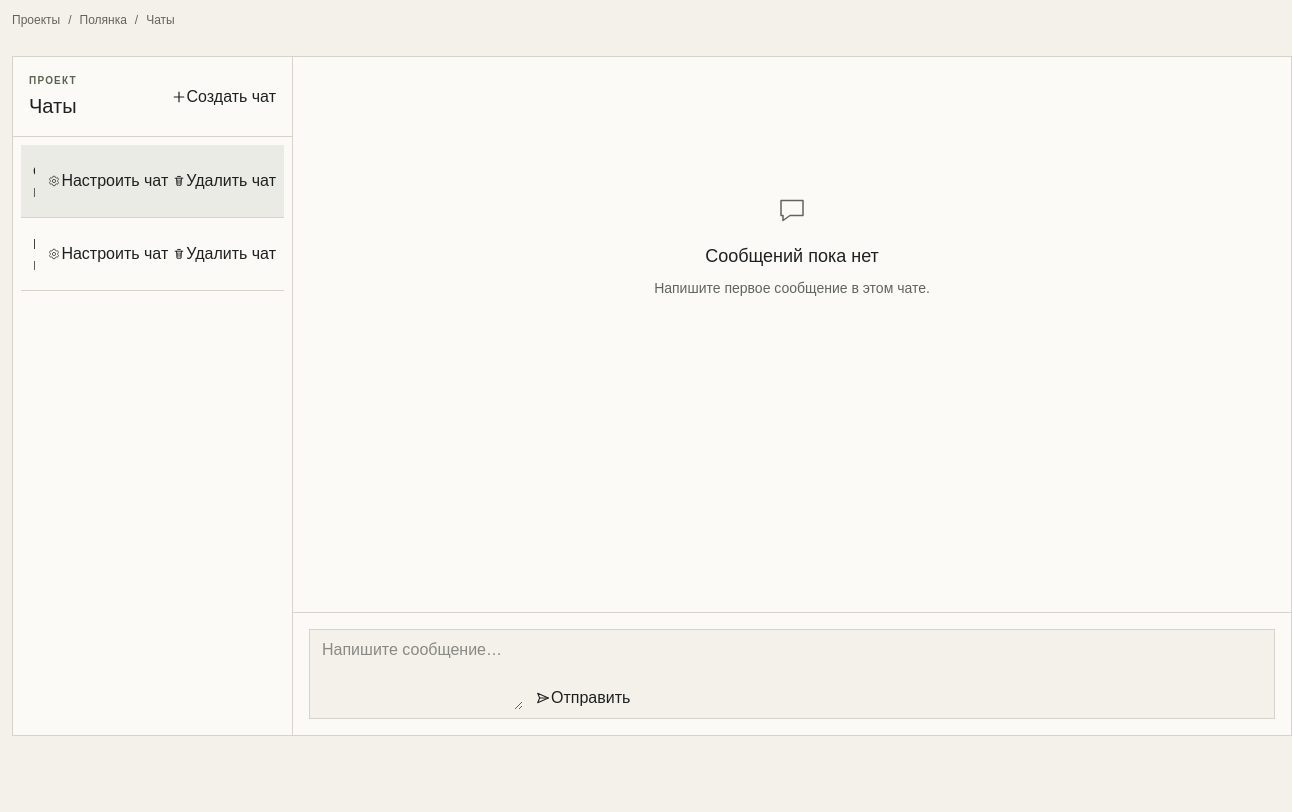
it: ProjectChatPage › deletes the active chat and selects the next available conversation
expect the heading "Сообщений пока нет" is shown: met, box [705,246,879,266]
Click the button named "Удалить чат «Общий чат проекта»": (179, 181) [172,169,186,193]
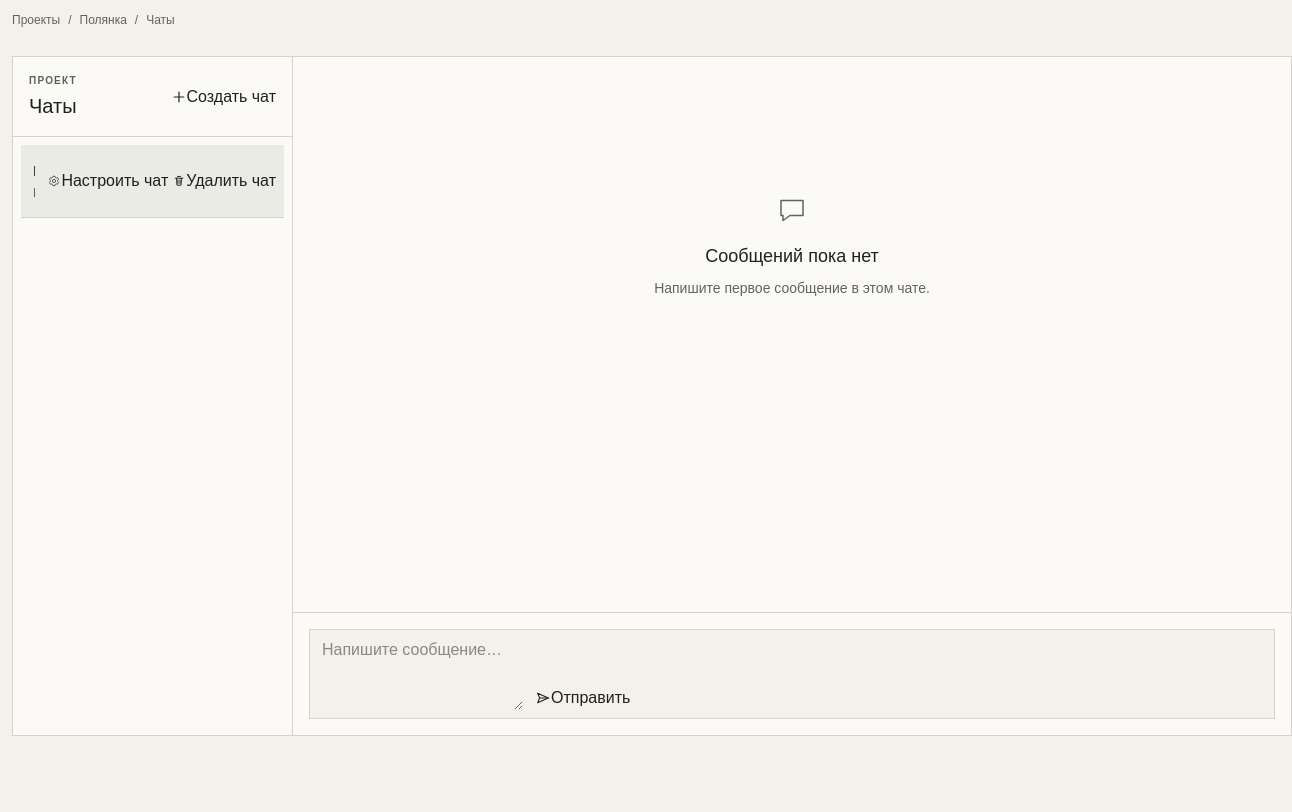
expect the text "Второй чат" is shown: met, box [33,161,35,181]
expect the link "Общий чат проекта" is gone: met
